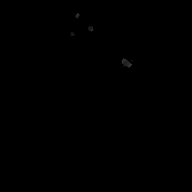v: (67, 11, 92, 36)
